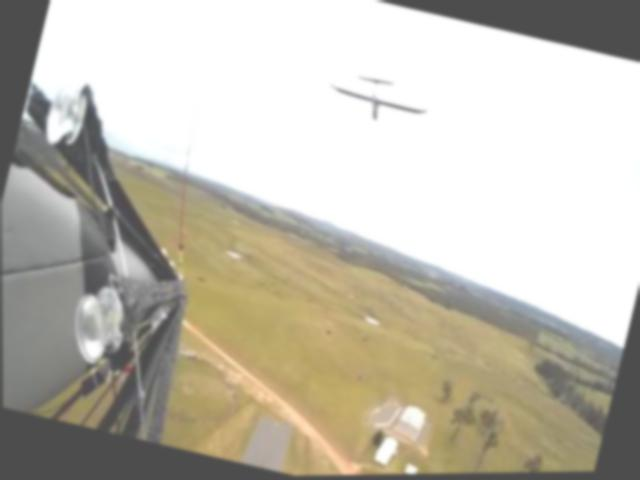uav: (321, 62, 431, 136)
